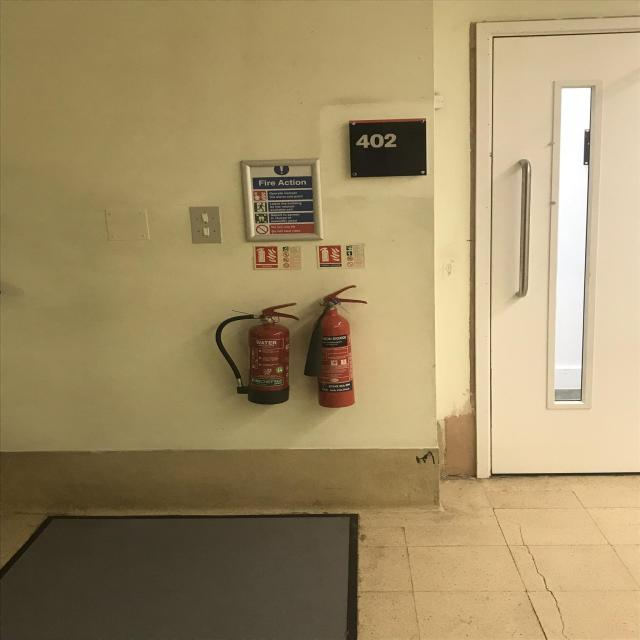fire_extinguisher: (213, 302, 302, 407), (301, 284, 368, 410)
